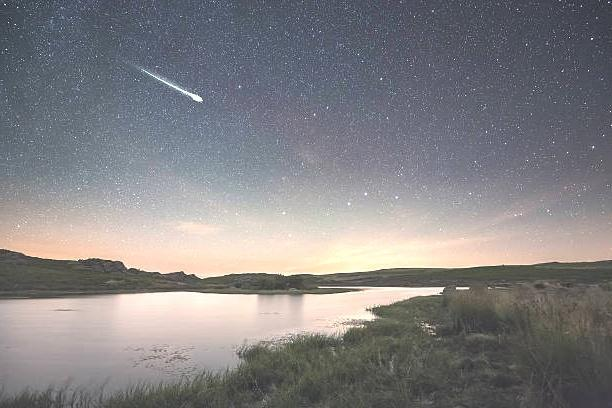meteorite: (124, 61, 211, 108)
